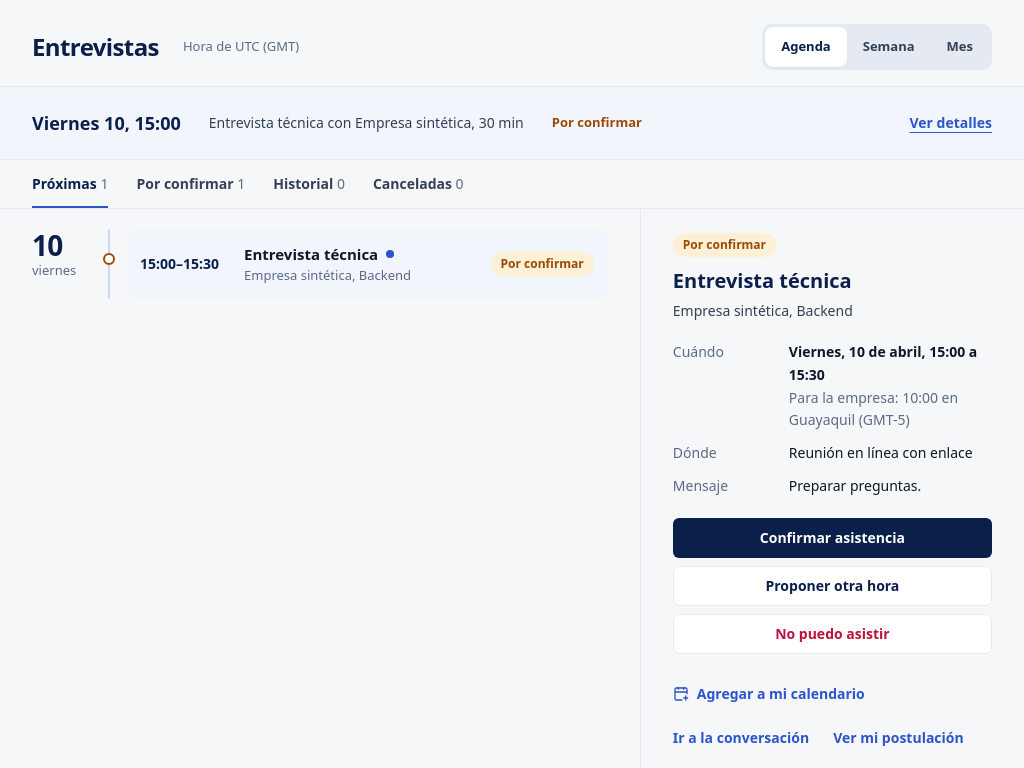
Test: entrevistas del candidato › cambia de pestaña y muestra un estado vacío que explica qué esperar
Click the tab "Canceladas 0" at (418, 184), box [373, 160, 464, 208]
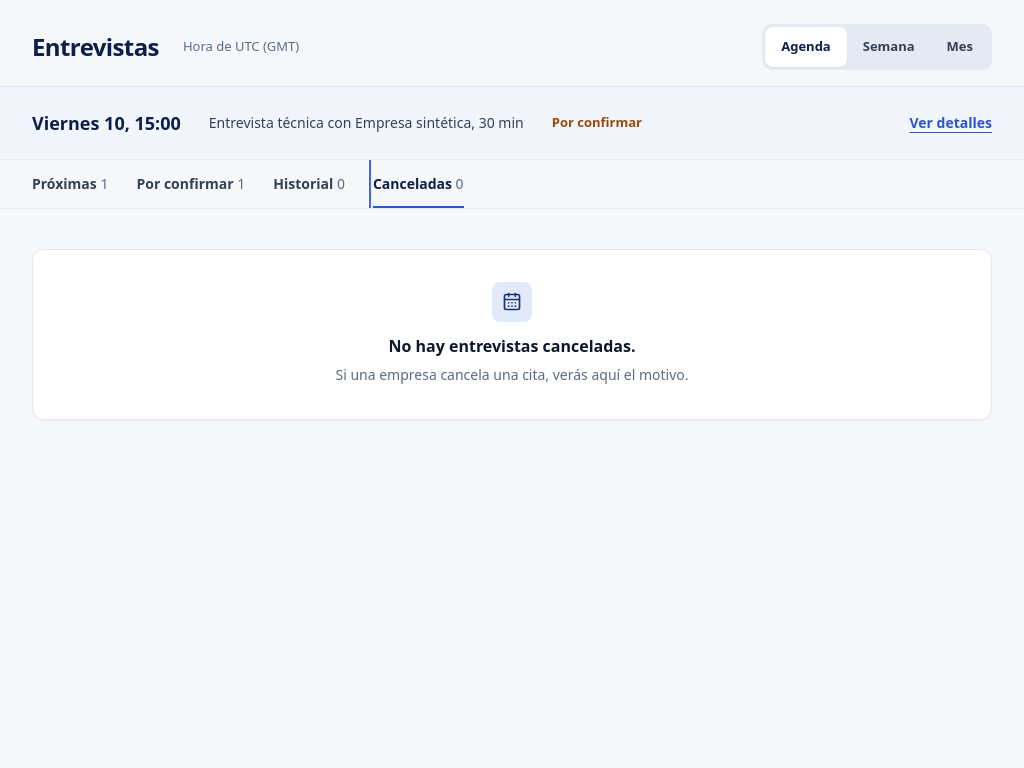
expect the heading "No hay entrevistas canceladas." is shown: met, box [388, 334, 636, 358]
